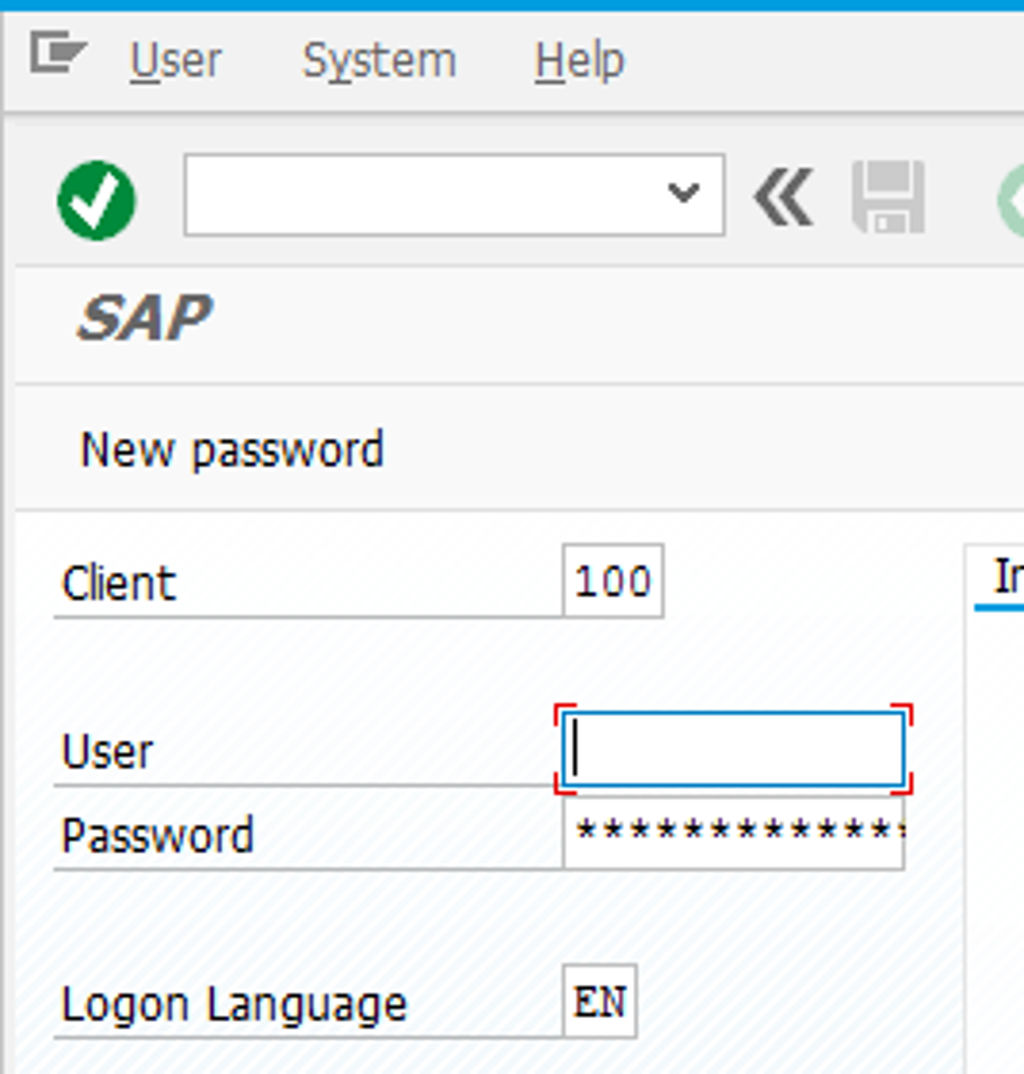button: (297, 31, 467, 94), (122, 32, 226, 97), (528, 29, 630, 95), (848, 157, 930, 237), (649, 160, 718, 234), (749, 161, 818, 235)
common: (57, 970, 412, 1034), (76, 419, 390, 476), (55, 802, 259, 864), (56, 552, 186, 612), (54, 720, 170, 781), (968, 547, 1024, 600)
container: (1, 509, 1024, 1074), (1, 120, 1024, 261), (1, 259, 1024, 385), (2, 384, 1024, 510), (1, 10, 1024, 122), (52, 699, 917, 792), (52, 791, 914, 877), (54, 539, 670, 622), (962, 538, 1024, 1074)
image: (72, 286, 216, 347), (51, 156, 142, 248), (22, 22, 94, 86)
text-input: (182, 152, 730, 241), (552, 699, 916, 792), (560, 789, 911, 875), (560, 540, 667, 620), (561, 961, 641, 1040)
